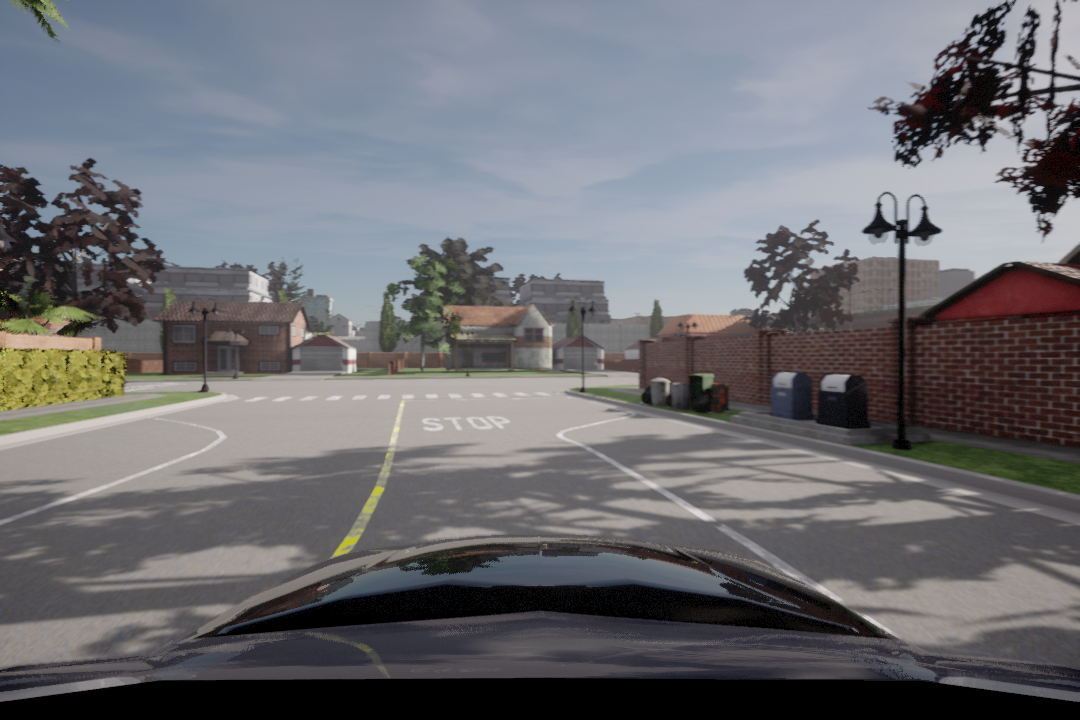walkside: (224, 385, 568, 406)
